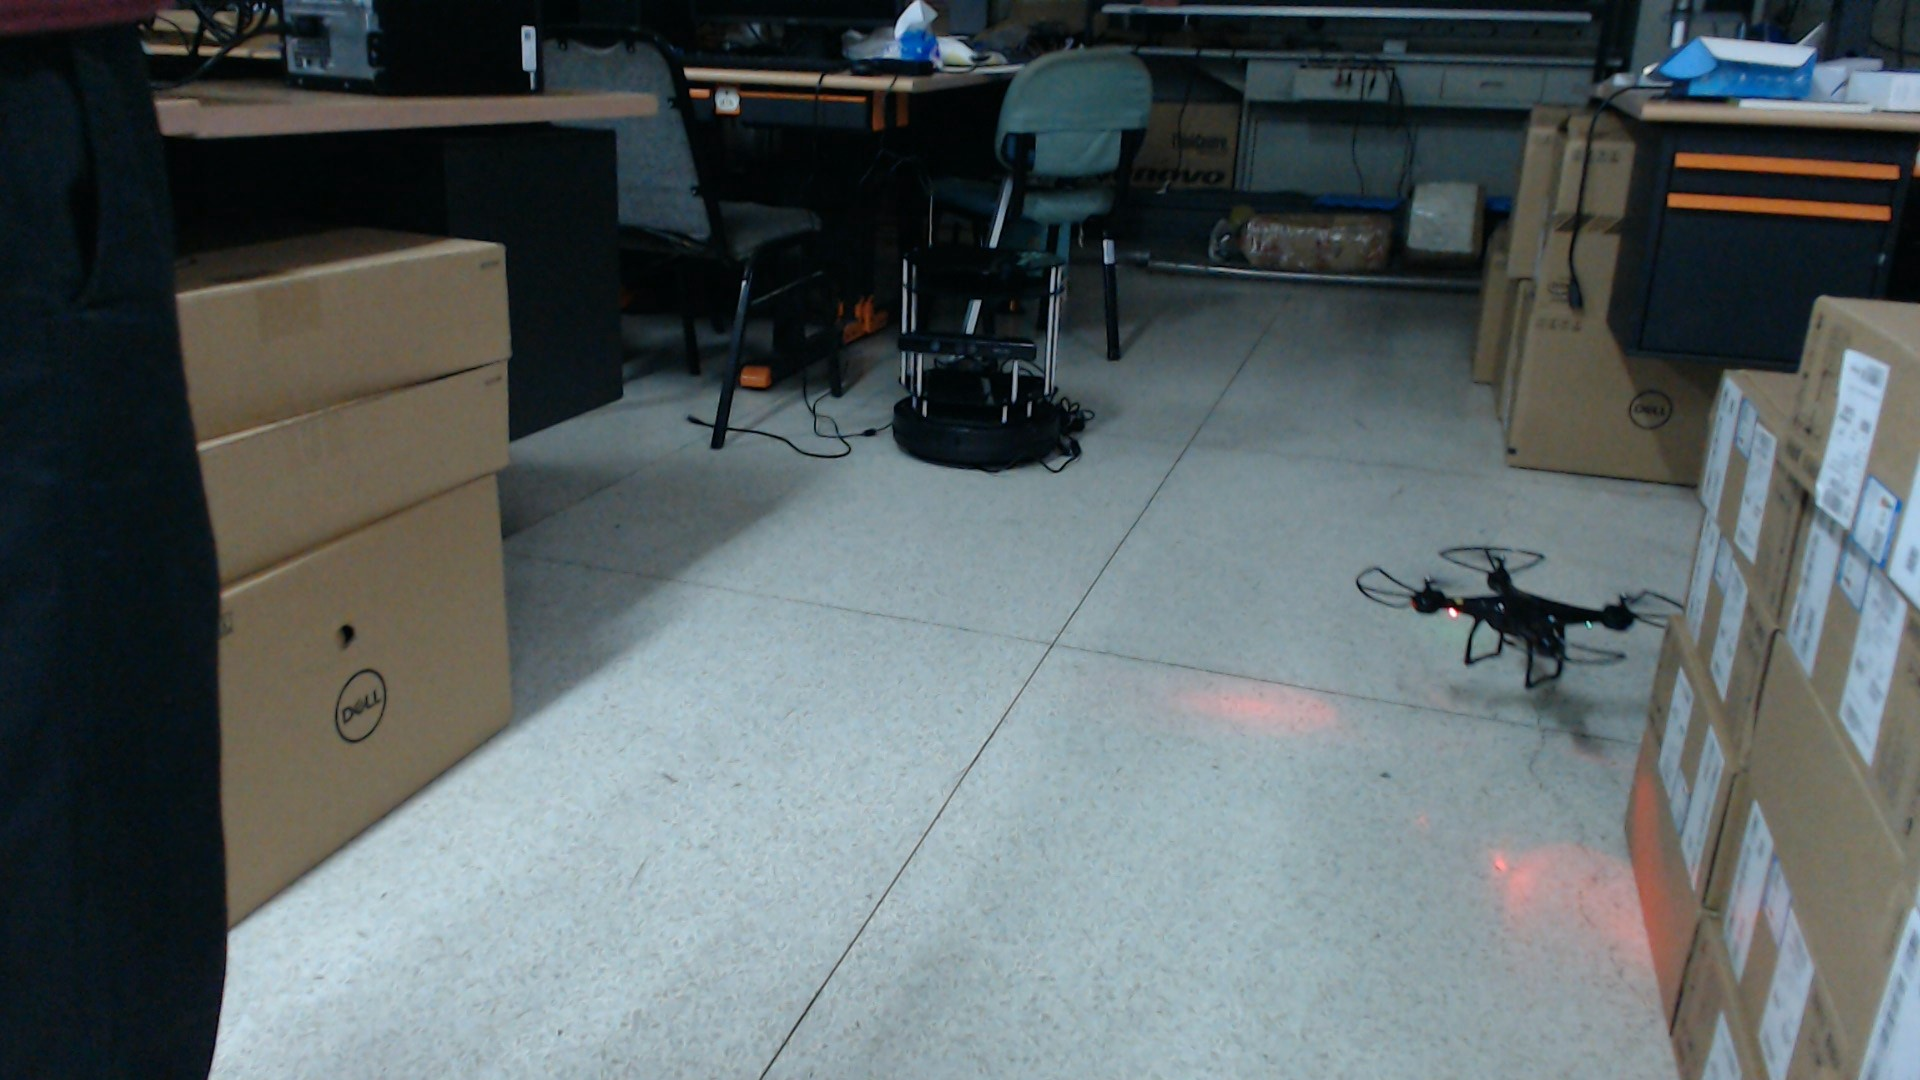drone_shadow: (1456, 661, 1648, 766)
test_drone: (1353, 538, 1692, 698)
